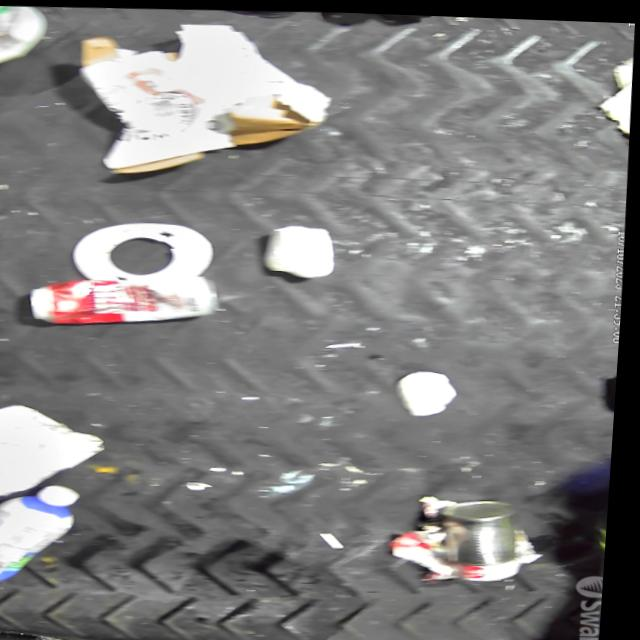can: (25, 269, 228, 332), (444, 492, 531, 564)
milk_jug: (0, 4, 49, 77)
plastic_bottle: (0, 615, 11, 640)
